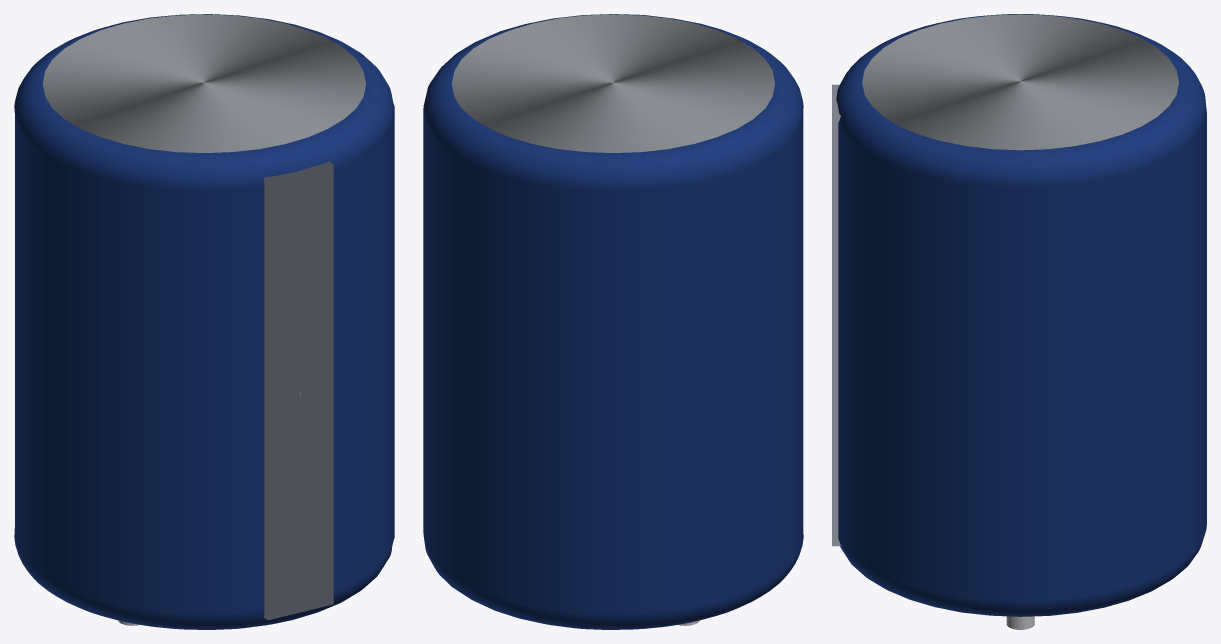
File: radial_capacitor.obj
3 views of the same model, side by side, from view 1: azimuth 30°, elevation 25°; view 2: azimuth 150°, elevation 25°; view 3: azimuth 270°, elevation 25° (orthographic). The views are drawn at different scales.
Visible parts, largest first — view 1: sleeve, top, polarity_stripe; view 2: sleeve, top; view 3: sleeve, top, polarity_stripe.
Part boxes in pixels (x1,y1,x2,y2): sleeve: [14, 14, 394, 629]; top: [43, 14, 365, 152]; polarity_stripe: [263, 161, 333, 620]; sleeve: [423, 14, 803, 629]; top: [452, 14, 774, 152]; sleeve: [836, 14, 1206, 616]; top: [862, 14, 1178, 150]; polarity_stripe: [832, 84, 840, 546].
Bounding box in the file's own units: 0.00799 × 0.0121 × 0.00805.
